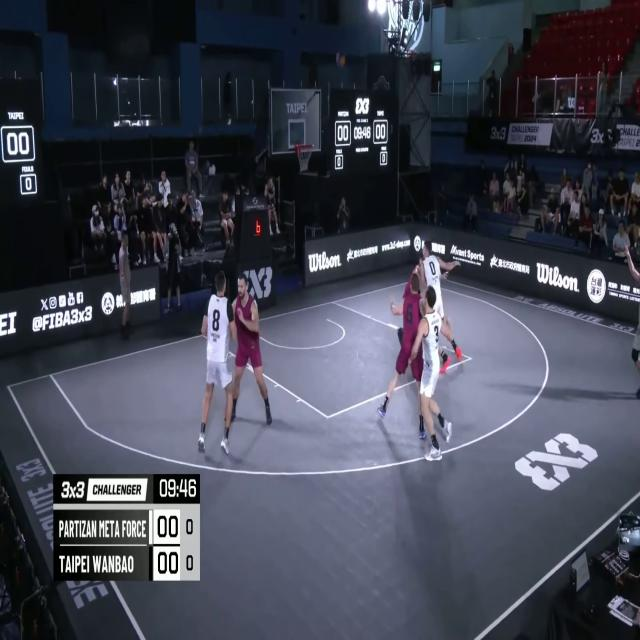ball: (334, 46, 348, 73)
hoop: (296, 140, 314, 175)
player: (380, 270, 429, 434), (413, 282, 454, 462), (227, 270, 271, 436), (198, 274, 238, 456), (418, 242, 462, 374)
